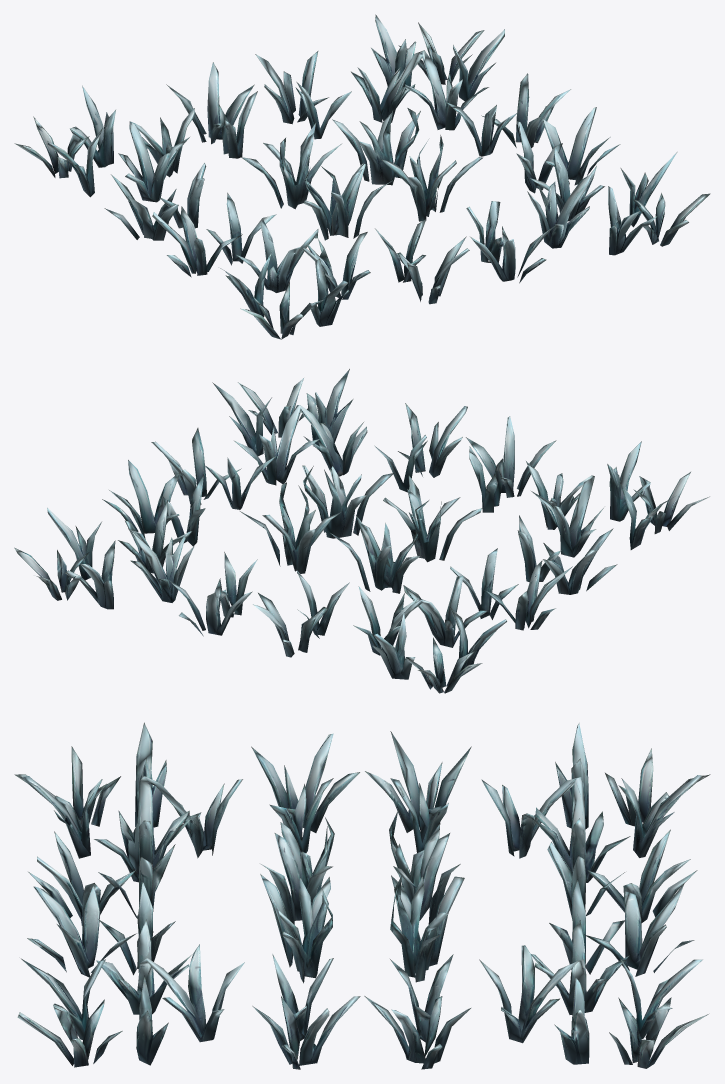
The picture shows the model from 3 angles, top to bottom: view 1: azimuth 30°, elevation 25°; view 2: azimuth 150°, elevation 25°; view 3: azimuth 270°, elevation 25°; orthographic projection. The views are drawn at different scales.
Parts seen in each view (by area): view 1: Mesh_0; view 2: Mesh_0; view 3: Mesh_0.
Boxes of the visible parts, <box> form: Mesh_0: <box>14,14,710,339</box>; Mesh_0: <box>14,369,709,693</box>; Mesh_0: <box>14,722,710,1069</box>.
Size of the model in its own units: 1.92 by 0.3073 by 1.92.
1 material, 1 textured.
